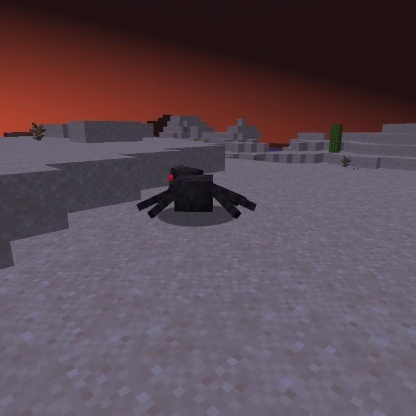spider: (133, 162, 259, 224)
